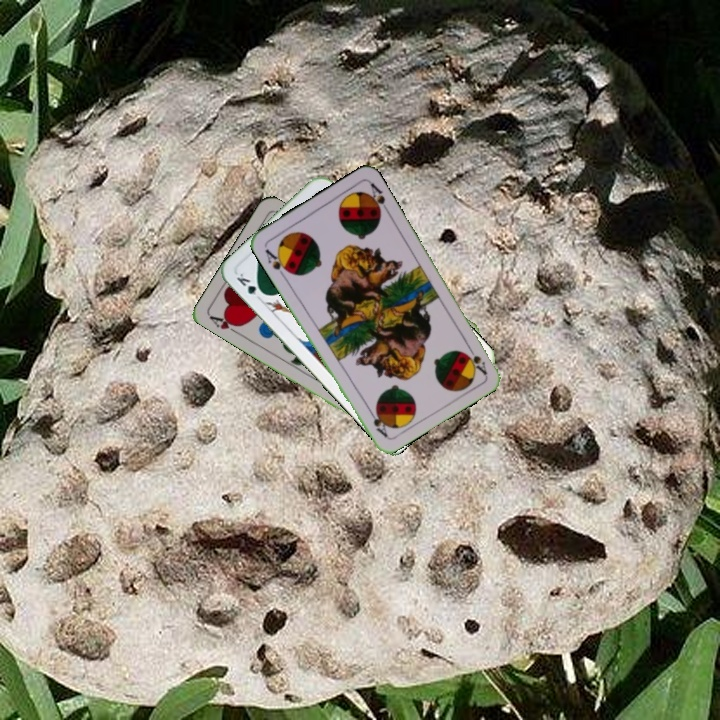GK: (232, 268, 268, 299)
HA: (206, 311, 245, 338)
SA: (261, 245, 293, 280), (462, 340, 490, 377)
